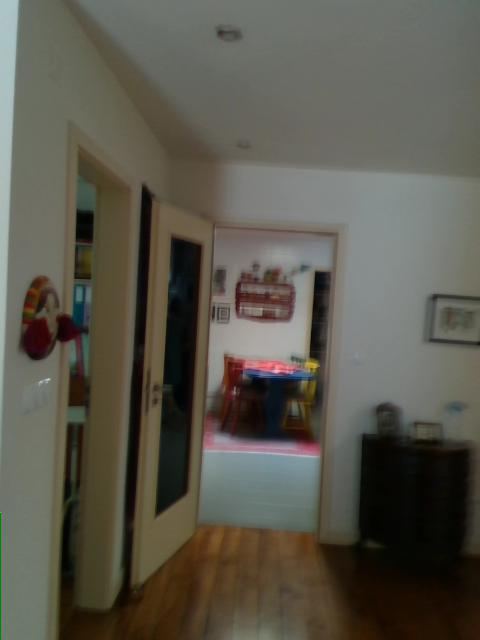door: (128, 195, 216, 594)
